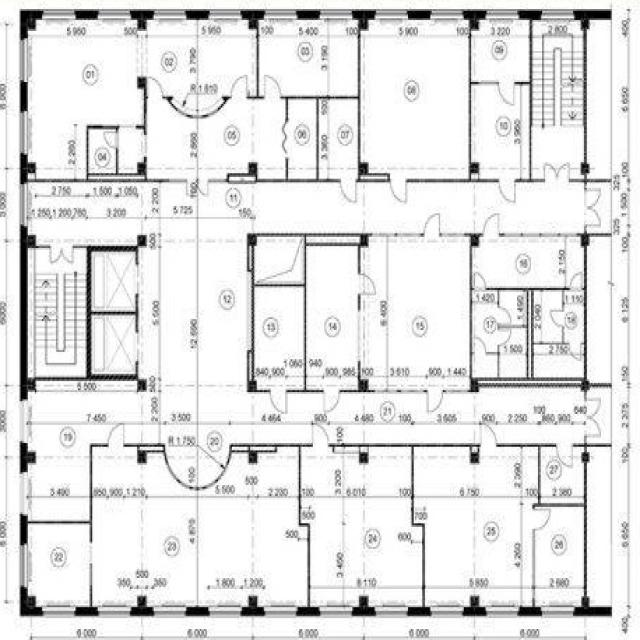Bathrooms: (535, 346, 583, 377), (535, 293, 562, 342), (501, 332, 525, 377), (501, 292, 526, 324), (473, 355, 497, 377)
Corridors: (28, 182, 584, 520), (474, 238, 583, 285), (473, 291, 497, 352), (588, 390, 611, 443), (587, 184, 610, 232), (90, 130, 115, 172), (119, 131, 143, 173), (566, 291, 583, 342)
Doors: (584, 396, 603, 439), (583, 187, 603, 227), (544, 159, 571, 184), (387, 177, 408, 206), (478, 418, 499, 447), (184, 176, 210, 199), (322, 388, 342, 417), (555, 442, 575, 471), (48, 244, 74, 266), (311, 417, 330, 447), (263, 73, 284, 100), (480, 212, 501, 239), (497, 178, 517, 205), (268, 388, 288, 415), (426, 388, 445, 416), (230, 72, 249, 99), (340, 178, 358, 206), (423, 210, 441, 238), (498, 78, 516, 106), (147, 75, 167, 100), (106, 421, 125, 447), (533, 508, 553, 532), (358, 272, 377, 297), (137, 31, 146, 76), (280, 119, 290, 159), (548, 308, 566, 330), (569, 270, 584, 293), (102, 131, 119, 151), (473, 269, 488, 291), (567, 343, 582, 363), (497, 305, 512, 325), (474, 335, 487, 358), (496, 331, 512, 348), (135, 332, 140, 360), (143, 135, 148, 157), (119, 125, 136, 131), (358, 312, 360, 361), (89, 542, 93, 565), (136, 265, 139, 294)
LBwalls: (20, 227, 27, 400), (19, 586, 43, 617), (18, 8, 42, 39), (573, 9, 611, 20), (573, 606, 612, 616), (185, 8, 209, 20), (352, 8, 376, 20), (297, 8, 320, 20), (130, 9, 154, 20), (407, 9, 431, 20), (241, 9, 264, 20), (297, 605, 319, 616), (75, 9, 97, 20), (463, 9, 485, 20), (19, 442, 27, 472), (19, 515, 27, 545), (519, 9, 540, 20), (131, 606, 154, 616), (242, 607, 265, 617), (408, 606, 431, 616), (463, 606, 486, 616), (76, 606, 98, 616), (188, 607, 210, 617), (353, 606, 375, 616), (519, 606, 541, 616), (20, 154, 27, 183), (357, 379, 369, 390), (137, 76, 147, 89), (137, 18, 147, 31), (247, 162, 258, 173), (358, 162, 369, 173), (580, 163, 591, 174), (580, 234, 591, 245), (580, 379, 591, 390), (580, 452, 591, 463), (469, 161, 479, 173), (248, 452, 258, 464), (137, 452, 147, 464), (137, 379, 147, 391), (469, 595, 479, 607), (248, 595, 258, 607), (27, 595, 37, 607), (27, 379, 37, 391), (248, 18, 257, 31), (137, 162, 147, 173), (470, 453, 480, 464), (247, 382, 257, 393), (360, 453, 370, 464), (247, 234, 257, 245), (359, 234, 369, 245), (471, 234, 481, 245), (581, 596, 591, 607), (358, 596, 368, 607), (27, 451, 37, 462), (27, 234, 37, 245), (26, 162, 36, 173), (26, 20, 36, 31), (358, 19, 368, 30), (581, 19, 591, 30), (470, 379, 479, 391), (138, 235, 147, 246), (138, 596, 147, 607), (471, 18, 480, 29)
Offices: (93, 447, 307, 606), (414, 447, 538, 606), (301, 447, 422, 606), (28, 21, 143, 178), (361, 21, 468, 178), (361, 238, 470, 389), (148, 99, 285, 178), (148, 21, 257, 112), (259, 22, 357, 96), (307, 247, 357, 390), (472, 87, 528, 178), (255, 287, 304, 388), (28, 527, 88, 606), (536, 507, 583, 606), (472, 21, 529, 80), (319, 100, 358, 178), (541, 447, 583, 502), (289, 99, 316, 178)
Stairs: (533, 21, 583, 178), (28, 249, 85, 376)
Walls: (123, 442, 313, 606), (328, 443, 480, 606), (208, 31, 361, 183), (247, 232, 360, 394), (470, 245, 587, 382), (27, 245, 139, 381), (496, 443, 588, 596), (29, 124, 188, 183), (28, 444, 110, 544), (513, 20, 545, 182), (468, 20, 499, 162), (162, 95, 231, 121), (247, 21, 264, 101), (405, 173, 499, 183), (480, 382, 580, 389), (569, 175, 611, 190), (572, 438, 611, 452), (136, 90, 147, 136), (584, 29, 587, 163), (340, 390, 427, 394), (499, 233, 579, 237), (370, 232, 422, 238), (532, 530, 536, 606), (358, 173, 390, 182), (89, 564, 93, 607), (589, 382, 612, 389), (445, 388, 470, 394), (440, 233, 470, 238), (591, 233, 611, 238), (27, 245, 51, 248), (534, 343, 569, 345), (562, 291, 565, 312), (358, 360, 361, 380), (358, 245, 360, 273), (562, 326, 565, 343), (584, 391, 588, 402), (358, 294, 360, 313), (257, 390, 269, 393), (583, 226, 587, 232)
Windows: (264, 9, 297, 21), (430, 605, 463, 617), (264, 606, 297, 618), (42, 8, 74, 20), (97, 9, 129, 21), (208, 8, 240, 20), (321, 8, 353, 20), (376, 9, 408, 21), (431, 9, 463, 21), (485, 9, 517, 21), (541, 605, 573, 617), (486, 605, 518, 617), (376, 605, 408, 617), (320, 605, 352, 617), (210, 606, 242, 618), (155, 605, 187, 617), (98, 606, 130, 618), (44, 605, 76, 617), (19, 544, 28, 586), (154, 10, 186, 21), (541, 10, 573, 21), (19, 472, 27, 515), (19, 400, 27, 442), (19, 183, 27, 225), (20, 111, 28, 153), (19, 39, 27, 81)
